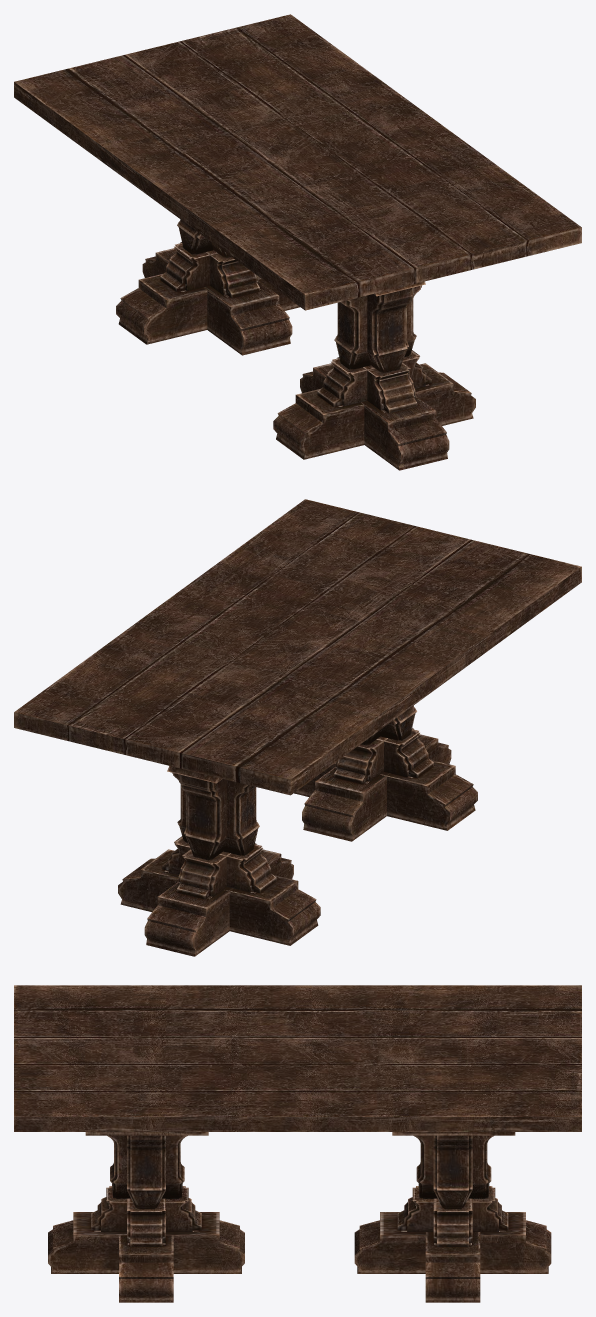
File: table4.fbx
3 renders of one model, top to bottom at view 1: azimuth 30°, elevation 25°; view 2: azimuth 150°, elevation 25°; view 3: azimuth 270°, elevation 25°, orthographic. The views are drawn at different scales.
Visible parts, largest first — view 1: table; view 2: table; view 3: table.
Part boxes in pixels (x1=…): table: x1=14, y1=14, x2=581, y2=470; table: x1=14, y1=499, x2=581, y2=956; table: x1=14, y1=985, x2=581, y2=1302.
Bounding box in the file's own units: 3022 × 2265 × 5508.
Materials: 1 (1 with a texture image).
